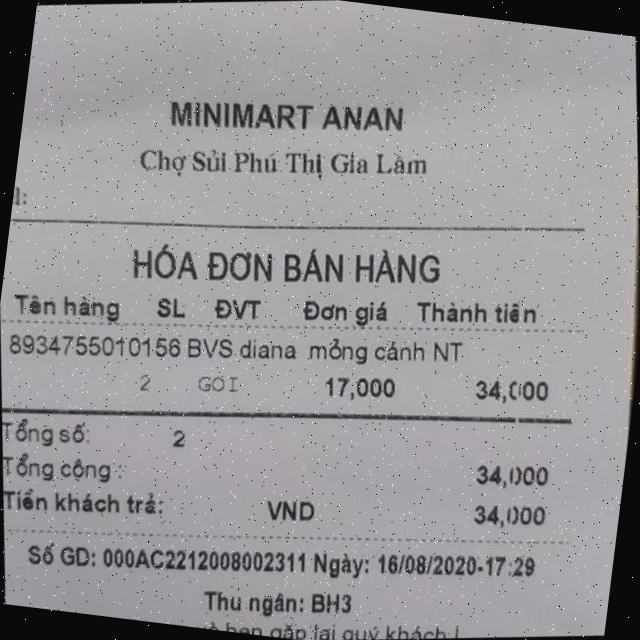Date: (370, 533, 480, 590)
Store_Name: (156, 60, 418, 171)
amount_number: (470, 447, 557, 502)
label_total: (0, 437, 115, 497)
